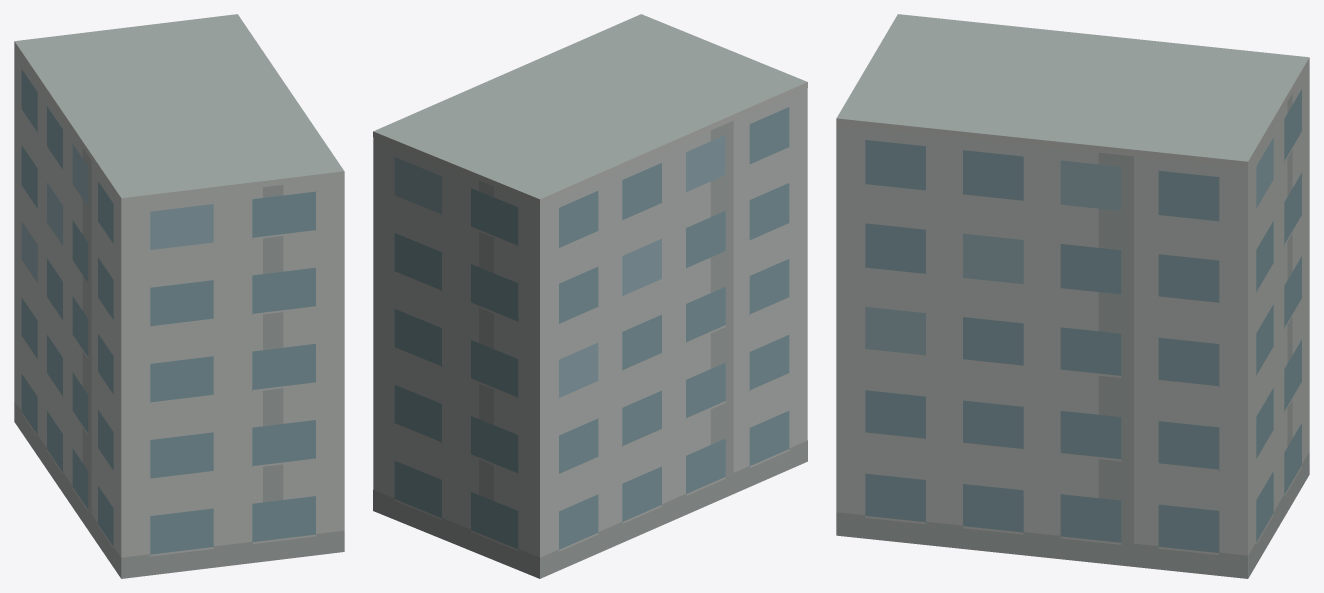
The model's file is residential-9ac71b6b-0b2a-4628-826e-f04d8bcbd75f.glb.
The picture shows the model from 3 angles, left to right: view 1: azimuth 30°, elevation 25°; view 2: azimuth 150°, elevation 25°; view 3: azimuth 270°, elevation 25°; orthographic projection. The views are drawn at different scales.
Parts seen in each view (by area): view 1: residential-9ac71b6b-0b2a-4628-826e-f04d8bcbd75f.tmp; view 2: residential-9ac71b6b-0b2a-4628-826e-f04d8bcbd75f.tmp; view 3: residential-9ac71b6b-0b2a-4628-826e-f04d8bcbd75f.tmp.
Boxes of the visible parts, left/top/right/bottom form: residential-9ac71b6b-0b2a-4628-826e-f04d8bcbd75f.tmp: left=14, top=14, right=344, bottom=578; residential-9ac71b6b-0b2a-4628-826e-f04d8bcbd75f.tmp: left=373, top=14, right=807, bottom=578; residential-9ac71b6b-0b2a-4628-826e-f04d8bcbd75f.tmp: left=836, top=14, right=1309, bottom=578.
Bounding box in the file's own units: 11.59 × 15.25 × 15.69.
